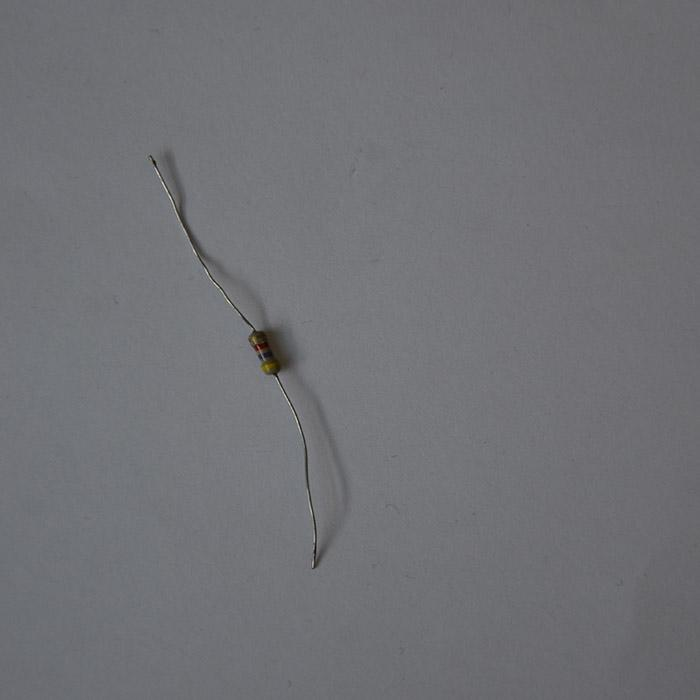resistor: (248, 329, 280, 376)
